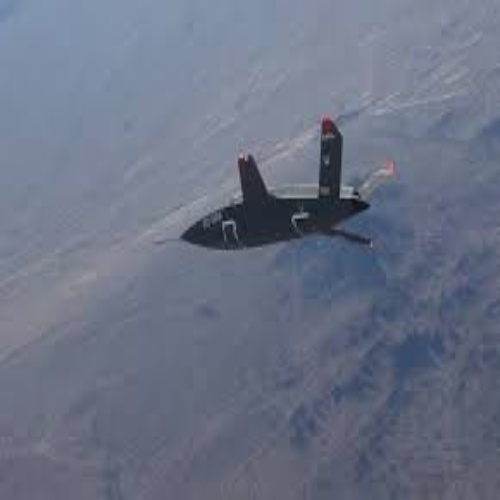uav: (171, 119, 383, 252)
